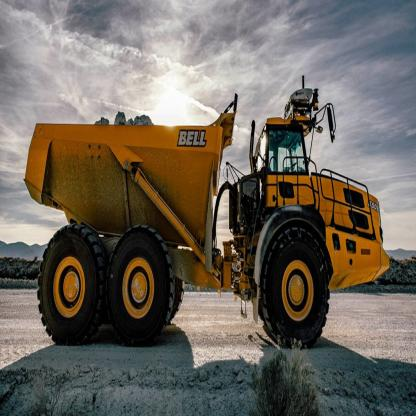dump_truck: (25, 71, 388, 362)
